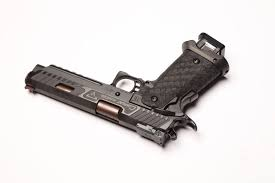gun: (22, 30, 232, 151)
